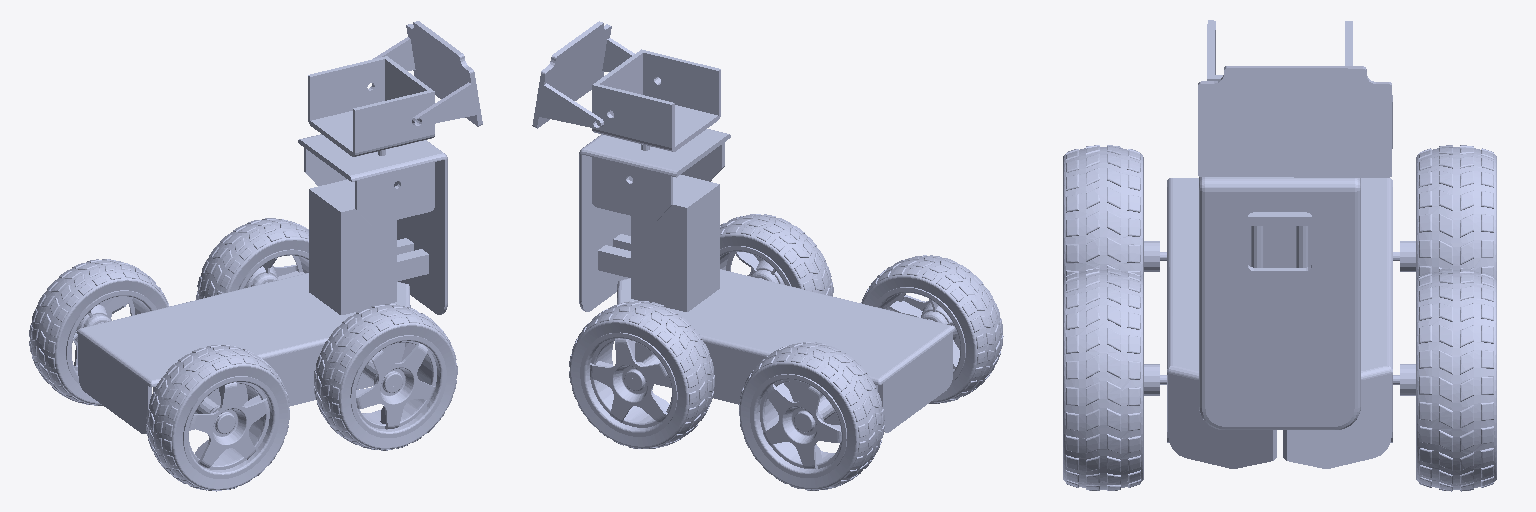
The robot description file, URDF, robot "JetBot":
<?xml version="1.0" encoding="utf-8"?>
<!-- This URDF was automatically created by SolidWorks to URDF Exporter! Originally created by [author] ([email redacted]) 
     Commit Version: 1.6.0-4-g7f85cfe  Build Version: 1.6.7995.38578
     For more information, please see http://wiki.ros.org/sw_urdf_exporter -->
<robot
  name="JetBot">
  <link
    name="base_link">
    <inertial>
      <origin
        xyz="0.0110234162103793 1.37854874715515E-06 0.000157426158267814"
        rpy="0 0 0" />
      <mass
        value="0.0702754782870741" />
      <inertia
        ixx="4.50418950998749E-05"
        ixy="-6.31399155094745E-09"
        ixz="-8.45085330221314E-07"
        iyy="0.000134449112913256"
        iyz="4.69222039701717E-10"
        izz="0.00016155174417827" />
    </inertial>
    <visual>
      <origin
        xyz="0 0 0"
        rpy="0 0 0" />
      <geometry>
        <mesh
          filename="package://JetBot/meshes/base_link.STL" />
      </geometry>
      <material
        name="">
        <color
          rgba="0.792156862745098 0.819607843137255 0.933333333333333 1" />
      </material>
    </visual>
    <collision>
      <origin
        xyz="0 0 0"
        rpy="0 0 0" />
      <geometry>
        <mesh
          filename="package://JetBot/meshes/base_link.STL" />
      </geometry>
    </collision>
  </link>
  <link
    name="Rueda_derecha">
    <inertial>
      <origin
        xyz="-1.95258696017442E-08 2.56903398511074E-08 0.00737717020240815"
        rpy="0 0 0" />
      <mass
        value="0.02139064998809" />
      <inertia
        ixx="8.62734894260715E-06"
        ixy="7.18929322493008E-10"
        ixz="3.78829652898775E-12"
        iyy="8.62731393090429E-06"
        iyz="-3.90647055226811E-12"
        izz="1.45154775052145E-05" />
    </inertial>
    <visual>
      <origin
        xyz="0 0 0"
        rpy="0 0 0" />
      <geometry>
        <mesh
          filename="package://JetBot/meshes/Rueda_derecha.STL" />
      </geometry>
      <material
        name="">
        <color
          rgba="0.792156862745098 0.819607843137255 0.933333333333333 1" />
      </material>
    </visual>
    <collision>
      <origin
        xyz="0 0 0"
        rpy="0 0 0" />
      <geometry>
        <mesh
          filename="package://JetBot/meshes/Rueda_derecha.STL" />
      </geometry>
    </collision>
  </link>
  <joint
    name="Rueda_derecha"
    type="continuous">
    <origin
      xyz="0.040035161138547 -0.0625 -0.016"
      rpy="-1.5707963267949 0 0" />
    <parent
      link="base_link" />
    <child
      link="Rueda_derecha" />
    <axis
      xyz="0 0 -1" />
  </joint>
  <link
    name="Rueda_izquierda">
    <inertial>
      <origin
        xyz="2.56566635159494E-08 -2.01408319779051E-08 -0.00737717021985709"
        rpy="0 0 0" />
      <mass
        value="0.0213906499859894" />
      <inertia
        ixx="8.62726554101095E-06"
        ixy="7.16117410072595E-10"
        ixz="4.01770221386501E-12"
        iyy="8.62739733199183E-06"
        iyz="-3.6860560559307E-12"
        izz="1.45154775050558E-05" />
    </inertial>
    <visual>
      <origin
        xyz="0 0 0"
        rpy="0 0 0" />
      <geometry>
        <mesh
          filename="package://JetBot/meshes/Rueda_izquierda.STL" />
      </geometry>
      <material
        name="">
        <color
          rgba="0.792156862745098 0.819607843137255 0.933333333333333 1" />
      </material>
    </visual>
    <collision>
      <origin
        xyz="0 0 0"
        rpy="0 0 0" />
      <geometry>
        <mesh
          filename="package://JetBot/meshes/Rueda_izquierda.STL" />
      </geometry>
    </collision>
  </link>
  <joint
    name="Rueda_izquierda"
    type="continuous">
    <origin
      xyz="0.040035161138547 0.0625 -0.016"
      rpy="-1.5707963267949 0 0" />
    <parent
      link="base_link" />
    <child
      link="Rueda_izquierda" />
    <axis
      xyz="0 0 1" />
  </joint>
  <link
    name="Prismatico">
    <inertial>
      <origin
        xyz="-0.0168038209268663 2.77555756156289E-17 0.0131387215749457"
        rpy="0 0 0" />
      <mass
        value="0.0254773843153175" />
      <inertia
        ixx="2.55633285669202E-05"
        ixy="-1.0246121973574E-21"
        ixz="3.9846481165429E-06"
        iyy="2.54658110389858E-05"
        iyz="-1.42360671909395E-21"
        izz="1.26962901107759E-05" />
    </inertial>
    <visual>
      <origin
        xyz="0 0 0"
        rpy="0 0 0" />
      <geometry>
        <mesh
          filename="package://JetBot/meshes/Prismatico.STL" />
      </geometry>
      <material
        name="">
        <color
          rgba="0.792156862745098 0.819607843137255 0.933333333333333 1" />
      </material>
    </visual>
    <collision>
      <origin
        xyz="0 0 0"
        rpy="0 0 0" />
      <geometry>
        <mesh
          filename="package://JetBot/meshes/Prismatico.STL" />
      </geometry>
    </collision>
  </link>
  <joint
    name="Prismatico"
    type="prismatic">
    <origin
      xyz="0.09136 0 0.029365"
      rpy="0 0 0" />
    <parent
      link="base_link" />
    <child
      link="Prismatico" />
    <axis
      xyz="0 0 1" />
    <limit
      lower="0"
      upper="0.03"
      effort="0"
      velocity="0" />
  </joint>
  <link
    name="servo">
    <inertial>
      <origin
        xyz="0.00511539696077652 -3.62465412262203E-05 0.00632454648829188"
        rpy="0 0 0" />
      <mass
        value="0.0115226658888555" />
      <inertia
        ixx="3.88377103014534E-06"
        ixy="-7.21136110127849E-09"
        ixz="-2.19113270881711E-07"
        iyy="2.86609813545094E-06"
        iyz="1.55258687978977E-09"
        izz="5.29286829787266E-06" />
    </inertial>
    <visual>
      <origin
        xyz="0 0 0"
        rpy="0 0 0" />
      <geometry>
        <mesh
          filename="package://JetBot/meshes/servo.STL" />
      </geometry>
      <material
        name="">
        <color
          rgba="0.792156862745098 0.819607843137255 0.933333333333333 1" />
      </material>
    </visual>
    <collision>
      <origin
        xyz="0 0 0"
        rpy="0 0 0" />
      <geometry>
        <mesh
          filename="package://JetBot/meshes/servo.STL" />
      </geometry>
    </collision>
  </link>
  <joint
    name="servo"
    type="revolute">
    <origin
      xyz="-0.0288514504417796 0 0.0556082397189115"
      rpy="0 0 0" />
    <parent
      link="Prismatico" />
    <child
      link="servo" />
    <axis
      xyz="0 0 1" />
    <limit
      lower="-0.5"
      upper="0.5"
      effort="0"
      velocity="0" />
  </joint>
  <link
    name="Camara">
    <inertial>
      <origin
        xyz="0.0182765158356149 0.0213196252645349 -0.03"
        rpy="0 0 0" />
      <mass
        value="0.00665998975622175" />
      <inertia
        ixx="3.21155576353648E-06"
        ixy="9.70682582623084E-08"
        ixz="3.01920923581855E-22"
        iyy="3.16153744386753E-06"
        iyz="-6.84284983833664E-22"
        izz="8.37975898119302E-07" />
    </inertial>
    <visual>
      <origin
        xyz="0 0 0"
        rpy="0 0 0" />
      <geometry>
        <mesh
          filename="package://JetBot/meshes/Camara.STL" />
      </geometry>
      <material
        name="">
        <color
          rgba="0.792156862745098 0.819607843137255 0.933333333333333 1" />
      </material>
    </visual>
    <collision>
      <origin
        xyz="0 0 0"
        rpy="0 0 0" />
      <geometry>
        <mesh
          filename="package://JetBot/meshes/Camara.STL" />
      </geometry>
    </collision>
  </link>
  <joint
    name="Camara"
    type="revolute">
    <origin
      xyz="0.012345 -0.025088 0.01"
      rpy="1.5708 0 -0.0070857" />
    <parent
      link="servo" />
    <child
      link="Camara" />
    <axis
      xyz="0 0 1" />
    <limit
      lower="-1"
      upper="-0.3"
      effort="0"
      velocity="0" />
  </joint>
  <link
    name="Rueda_derecha_atras">
    <inertial>
      <origin
        xyz="-3.11471735348068E-08 -1.22462899855569E-08 -0.00737717022300254"
        rpy="0 0 0" />
      <mass
        value="0.0213906499874812" />
      <inertia
        ixx="8.62668862481966E-06"
        ixy="-3.22427291772326E-10"
        ixz="-5.31034446608249E-12"
        iyy="8.62797424872917E-06"
        iyz="-1.29133346310508E-12"
        izz="1.45154775052323E-05" />
    </inertial>
    <visual>
      <origin
        xyz="0 0 0"
        rpy="0 0 0" />
      <geometry>
        <mesh
          filename="package://JetBot/meshes/Rueda_derecha_atras.STL" />
      </geometry>
      <material
        name="">
        <color
          rgba="0.792156862745098 0.819607843137255 0.933333333333333 1" />
      </material>
    </visual>
    <collision>
      <origin
        xyz="0 0 0"
        rpy="0 0 0" />
      <geometry>
        <mesh
          filename="package://JetBot/meshes/Rueda_derecha_atras.STL" />
      </geometry>
    </collision>
  </link>
  <joint
    name="Rueda_derecha_atras"
    type="continuous">
    <origin
      xyz="-0.049965 -0.0625 -0.016"
      rpy="1.5708 0 0" />
    <parent
      link="base_link" />
    <child
      link="Rueda_derecha_atras" />
    <axis
      xyz="0 0 1" />
  </joint>
  <link
    name="Rueda_izquierda_atras">
    <inertial>
      <origin
        xyz="1.18981572719279E-08 -3.18506142389305E-08 0.00737717025007104"
        rpy="0 0 0" />
      <mass
        value="0.0213906499842434" />
      <inertia
        ixx="8.62780427072924E-06"
        ixy="5.41842950705599E-10"
        ixz="-2.28421077126928E-12"
        iyy="8.62685860195069E-06"
        iyz="4.98324372310738E-12"
        izz="1.45154775049025E-05" />
    </inertial>
    <visual>
      <origin
        xyz="0 0 0"
        rpy="0 0 0" />
      <geometry>
        <mesh
          filename="package://JetBot/meshes/Rueda_izquierda_atras.STL" />
      </geometry>
      <material
        name="">
        <color
          rgba="0.792156862745098 0.819607843137255 0.933333333333333 1" />
      </material>
    </visual>
    <collision>
      <origin
        xyz="0 0 0"
        rpy="0 0 0" />
      <geometry>
        <mesh
          filename="package://JetBot/meshes/Rueda_izquierda_atras.STL" />
      </geometry>
    </collision>
  </link>
  <joint
    name="Rueda_izquierda_atras"
    type="continuous">
    <origin
      xyz="-0.049964838861453 0.0625000000000001 -0.016"
      rpy="1.5707963267949 0 0" />
    <parent
      link="base_link" />
    <child
      link="Rueda_izquierda_atras" />
    <axis
      xyz="0 0 -1" />
  </joint>
</robot>

--- Facts derived from the render (not from the file) ---
Views: 3 orthographic renders of the robot side by side, from view 1: azimuth 30°, elevation 25°; view 2: azimuth 150°, elevation 25°; view 3: azimuth 270°, elevation 25°.
Robot: JetBot — 8 links, 7 joints (2 revolute, 4 continuous, 1 prismatic); root link base_link; default pose: all joints at 0 but 1 set to mid-range because 0 is outside their limits (Camara = -0.65).
Visible links, largest first — view 1: base_link, Rueda_derecha, Rueda_derecha_atras, Prismatico, servo, Rueda_izquierda_atras, Rueda_izquierda, Camara; view 2: base_link, Rueda_izquierda_atras, Rueda_izquierda, Prismatico, servo, Rueda_derecha_atras, Rueda_derecha, Camara; view 3: Prismatico, base_link, Camara, Rueda_derecha, Rueda_izquierda, Rueda_izquierda_atras, Rueda_derecha_atras, servo.
Link boxes in pixels (x1,y1,x2,y2): base_link: [76, 179, 410, 433]; Rueda_derecha: [314, 304, 457, 450]; Rueda_derecha_atras: [146, 345, 289, 491]; Prismatico: [298, 134, 447, 314]; servo: [308, 56, 434, 156]; Rueda_izquierda_atras: [29, 259, 169, 405]; Rueda_izquierda: [196, 218, 308, 299]; Camara: [373, 21, 482, 126]; base_link: [617, 175, 955, 432]; Rueda_izquierda_atras: [739, 342, 884, 490]; Rueda_izquierda: [569, 301, 714, 448]; Prismatico: [579, 129, 730, 311]; servo: [592, 49, 720, 151]; Rueda_derecha_atras: [861, 255, 1003, 403]; Rueda_derecha: [720, 214, 833, 295]; Camara: [532, 21, 660, 128]; Prismatico: [1199, 177, 1360, 429]; base_link: [1160, 178, 1399, 468]; Camara: [1198, 66, 1392, 177]; Rueda_derecha: [1063, 268, 1159, 490]; Rueda_izquierda: [1400, 268, 1496, 491]; Rueda_izquierda_atras: [1400, 145, 1496, 279]; Rueda_derecha_atras: [1063, 145, 1159, 279]; servo: [1207, 20, 1352, 80].
Bounding box of the posed robot: 0.1942 × 0.134 × 0.1703 m (x, y, z).
Meshes: 8 distinct files referenced, 8 mesh visuals loaded (8 binary STL).